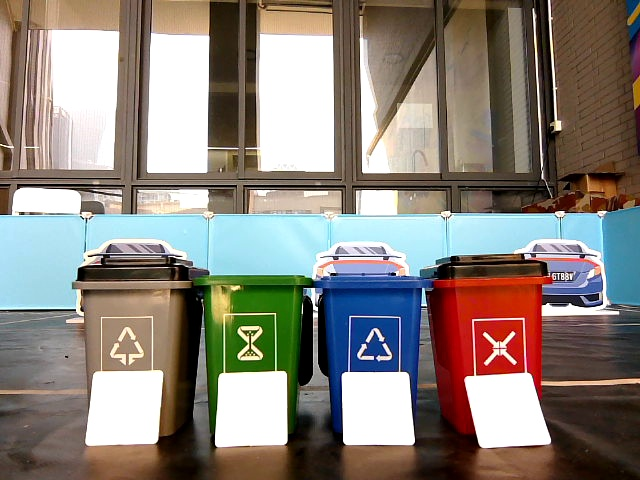blue_open: (326, 275, 416, 366)
green_open: (208, 275, 299, 369)
grey_close: (82, 259, 186, 372)
red_close: (435, 255, 539, 371)
